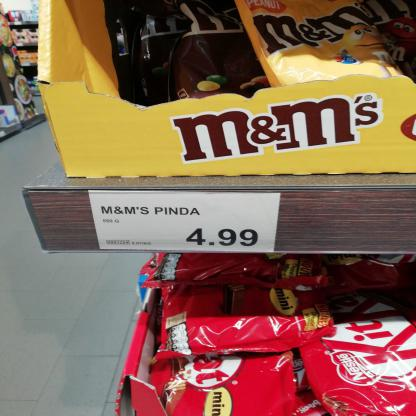prtg: (87, 190, 281, 253)
